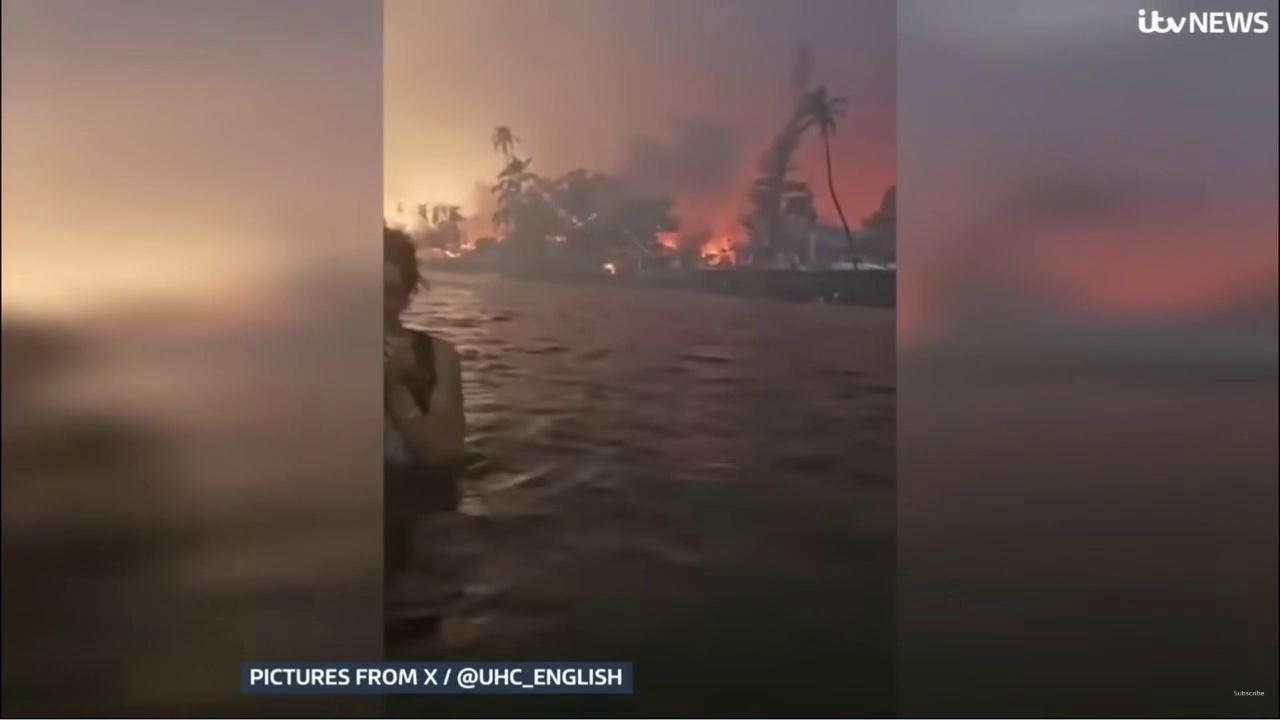fire: (699, 235, 732, 266), (651, 232, 678, 251), (602, 261, 618, 276), (458, 241, 479, 250), (442, 250, 462, 259)
smoke: (384, 0, 897, 277)
